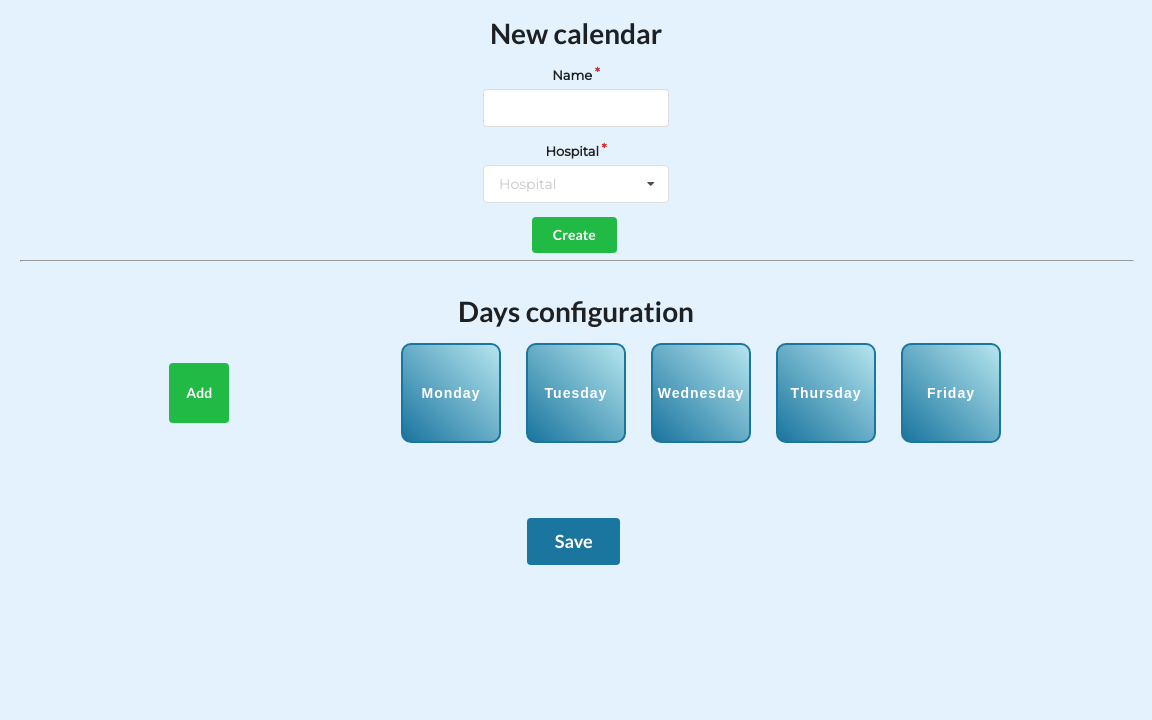
CalendarPage › when renders › and there is a current calendar › and all the form fields are set › when the user clicks the save button › and there are errors › should show the errors
The width and height of the screenshot is (1152, 720).
// First we set to a valid value
Type "C1" into the field labelled "Name".
click(576, 108); type("C1")  # box [483, 89, 669, 127]
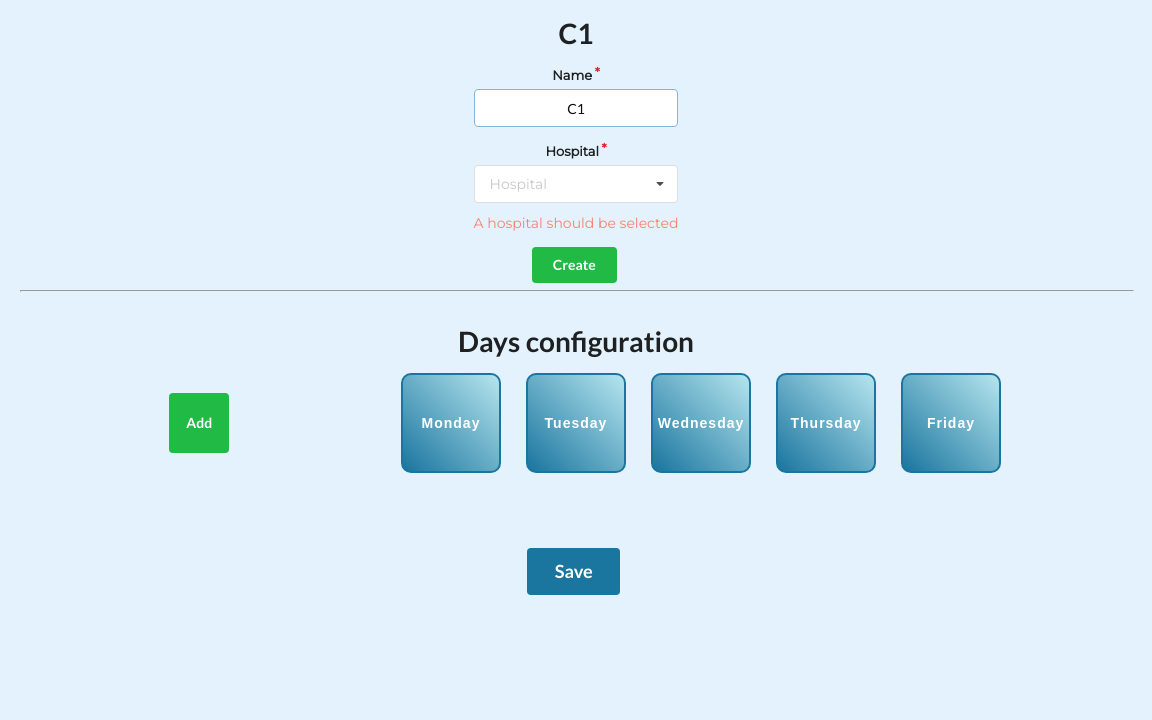
// and then we set it to an invalid one in order to get the errors
Clear the field labelled "Name" at (576,108), box [474, 89, 678, 127]
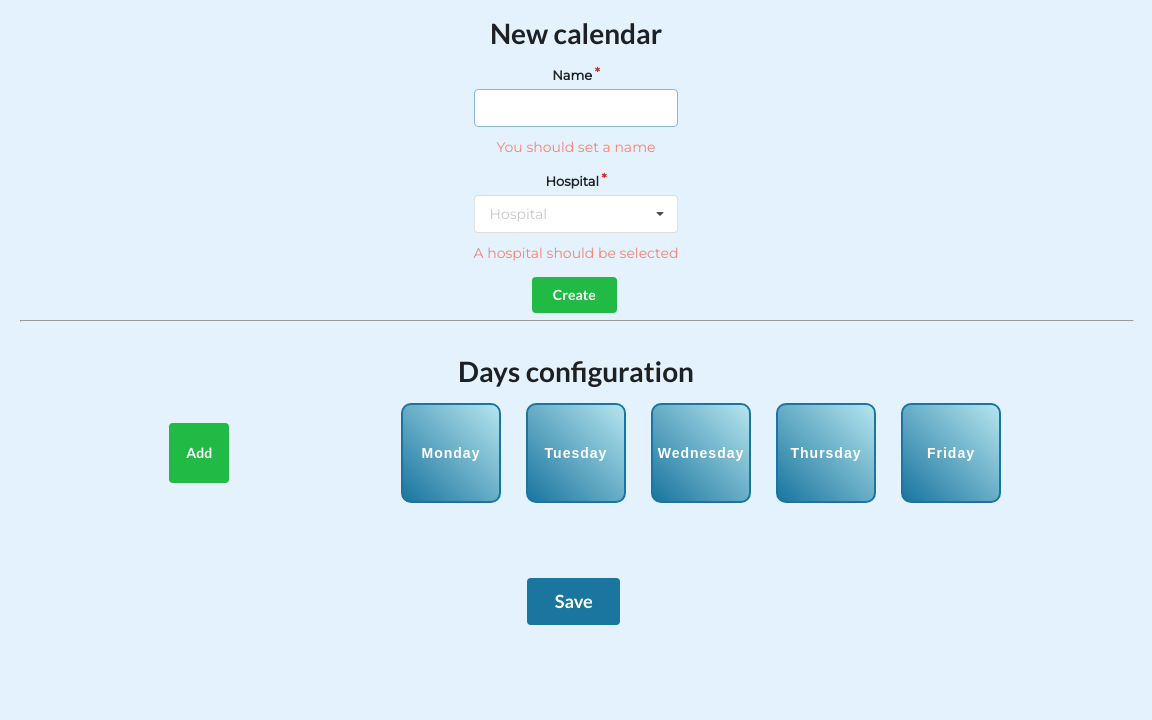
Now the text "You should set a name" is shown, box [496, 138, 655, 156]
